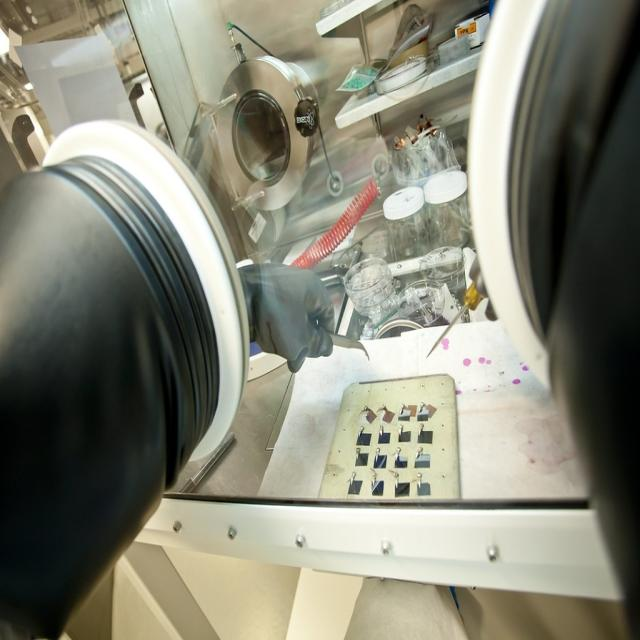E-waste: (9, 14, 630, 604)
